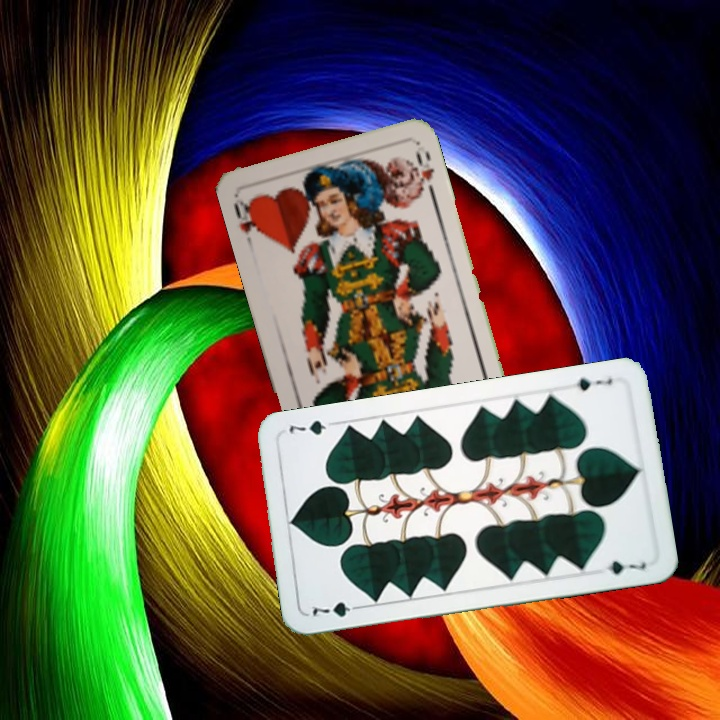G7: (307, 598, 365, 620), (572, 374, 615, 393)
HO: (229, 192, 264, 250)
